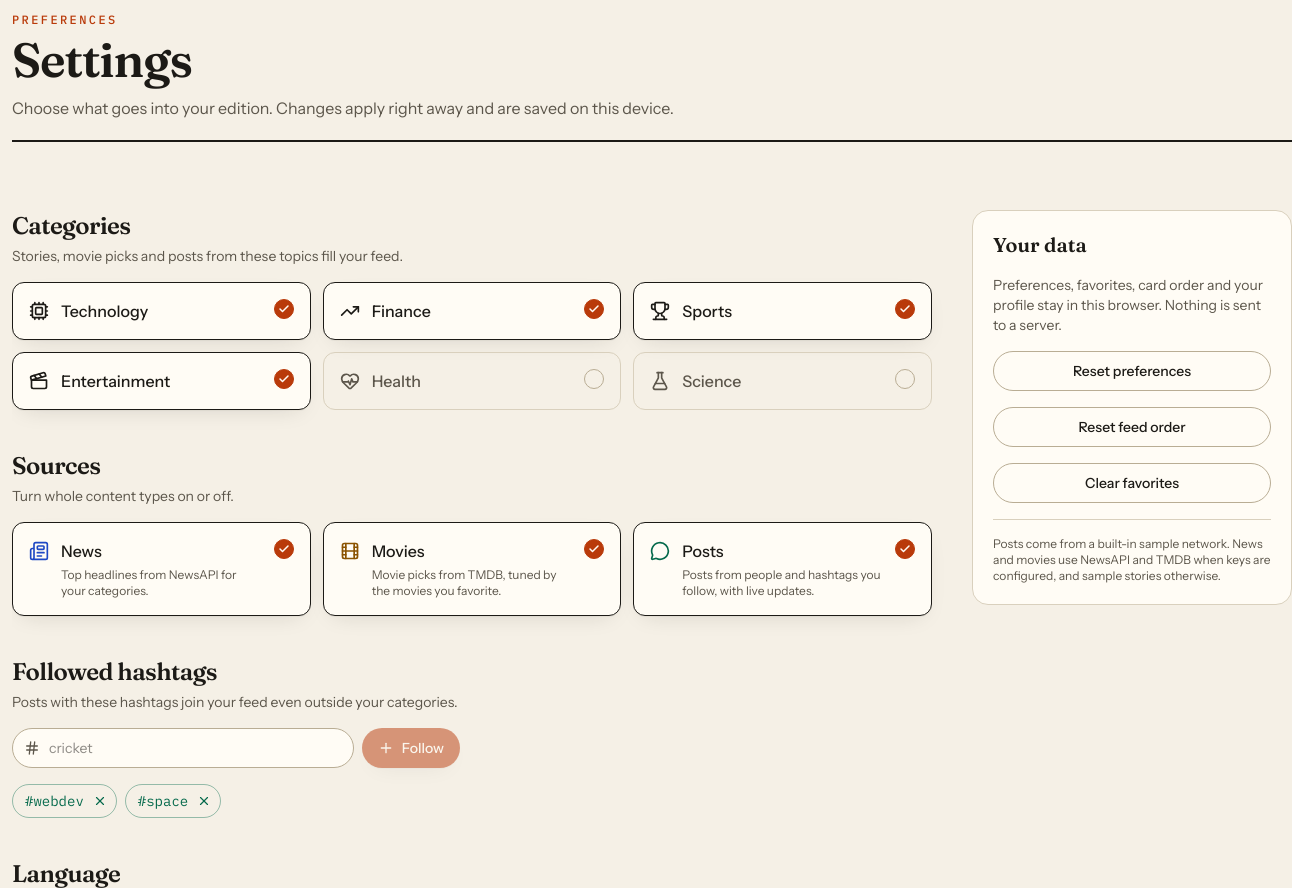
Scenario: SettingsView (integration) › follows, validates and unfollows hashtags
Expected: the element named "Categories" is shown, [12, 282, 932, 410]
Type "#Cricket" into the field named "Hashtag to follow". click: (183, 748)
box: [12, 728, 354, 768]
Then press Enter
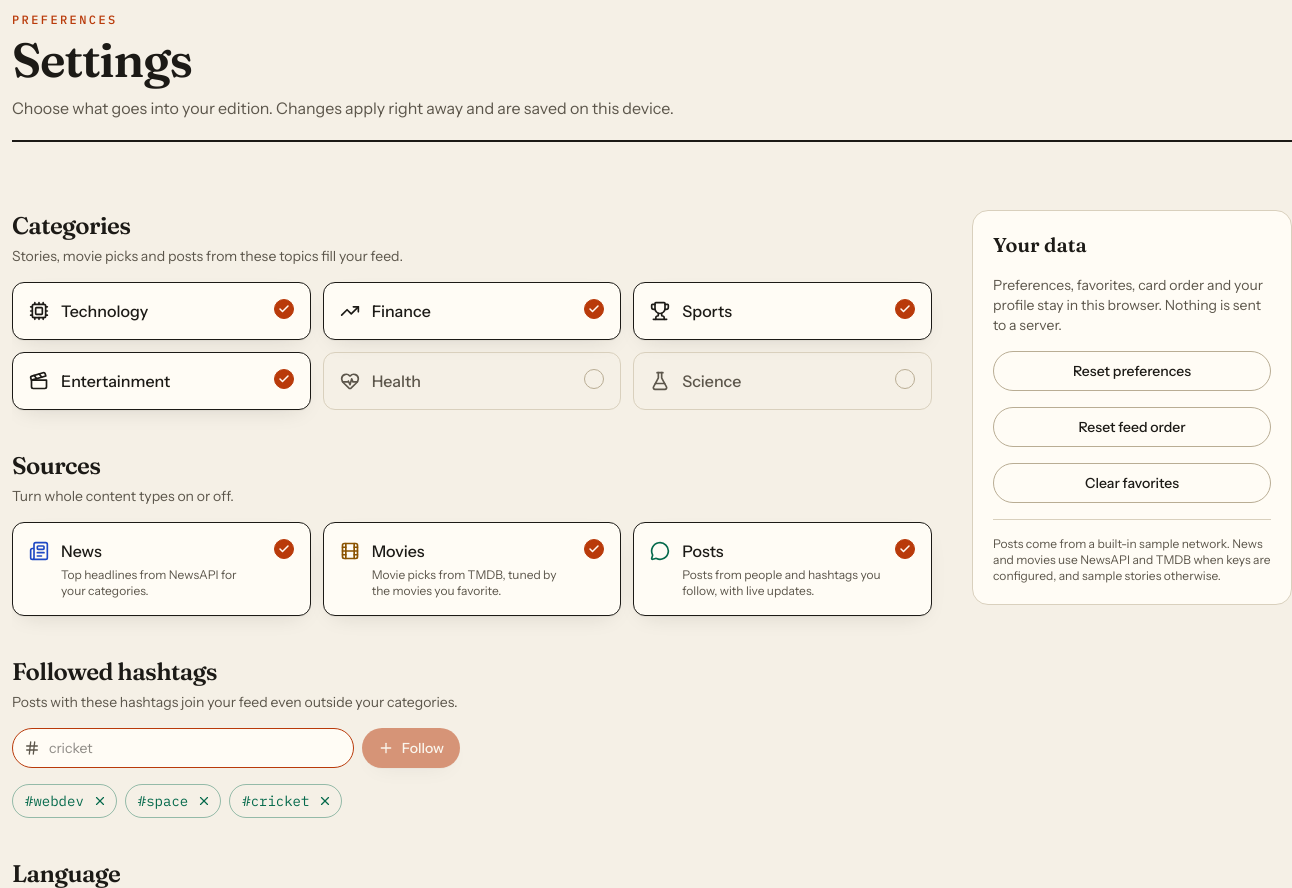
Now the list item "#cricket" is shown, box [229, 784, 342, 818]
Type "not ok!" into the field named "Hashtag to follow". click: (183, 748)
box: [12, 728, 354, 768]
Then press Enter
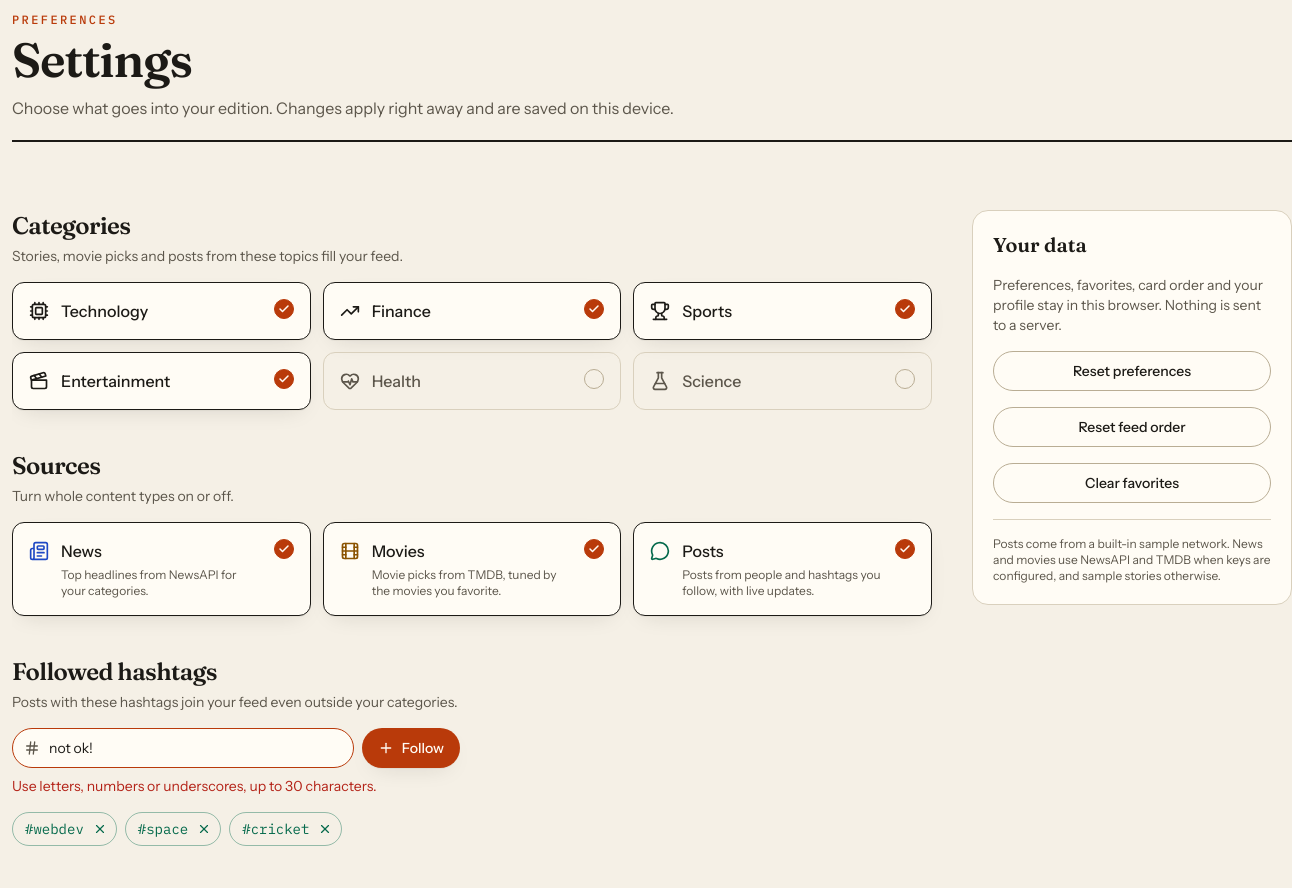
Now the text "Use letters, numbers or underscores, up to 30 characters." is shown, box [12, 777, 376, 795]
Click the button named "Unfollow #cricket". click: (325, 829)
box: [313, 817, 337, 841]
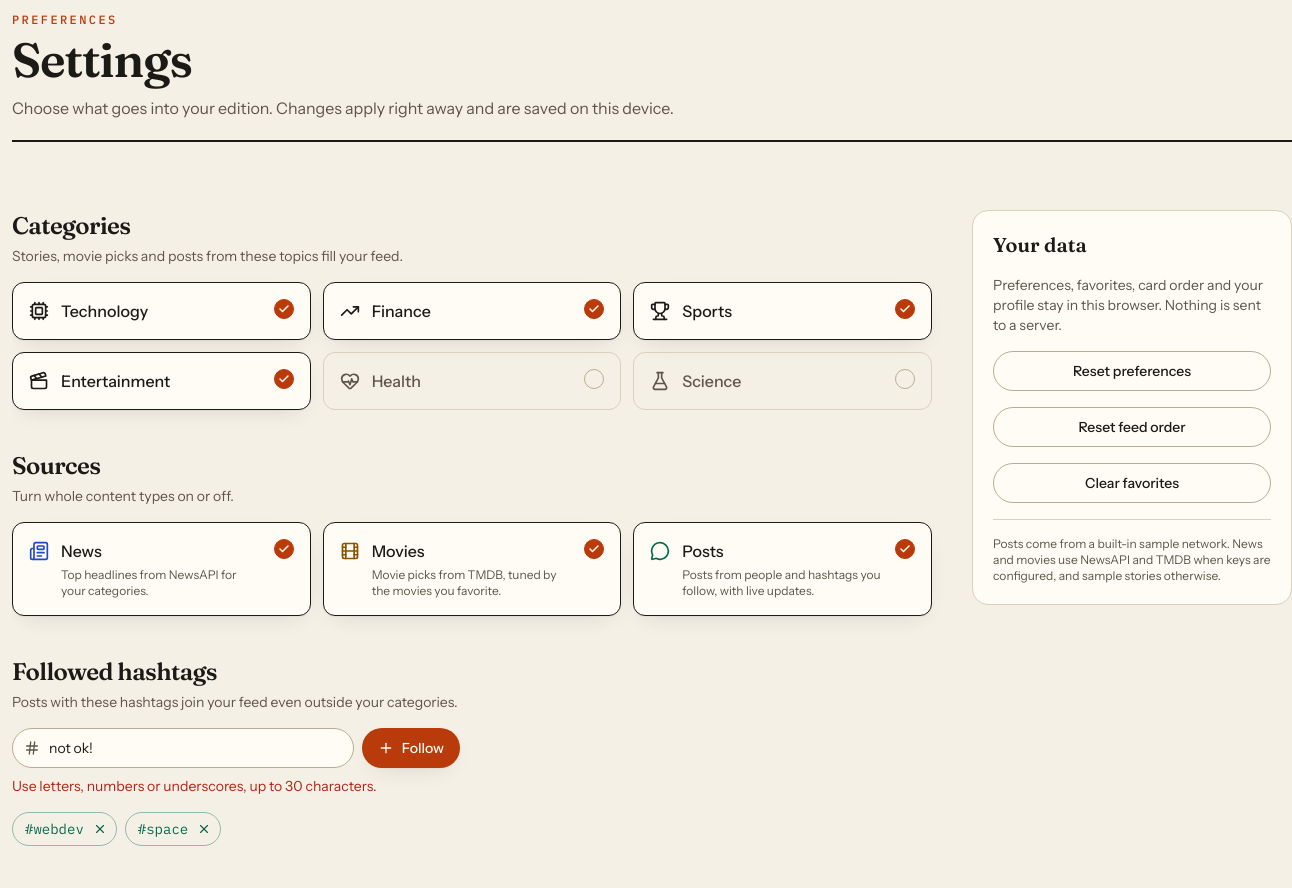
Now the list item "#cricket" is gone
